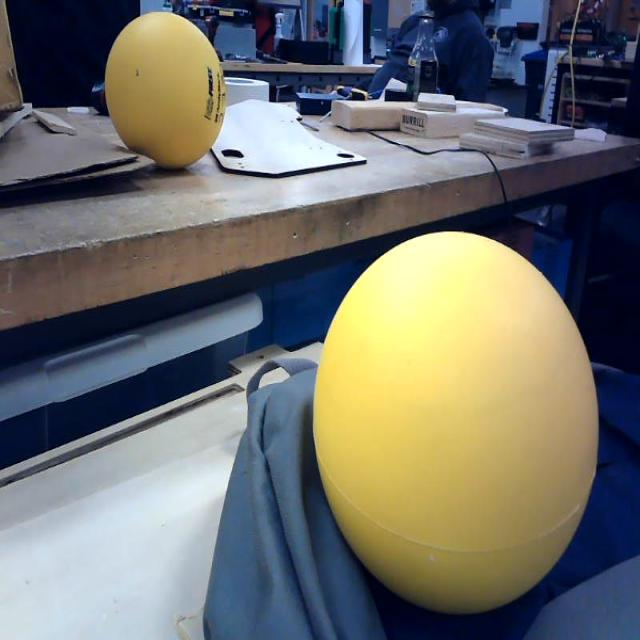Fuel: (313, 230, 600, 616), (105, 10, 226, 170)
